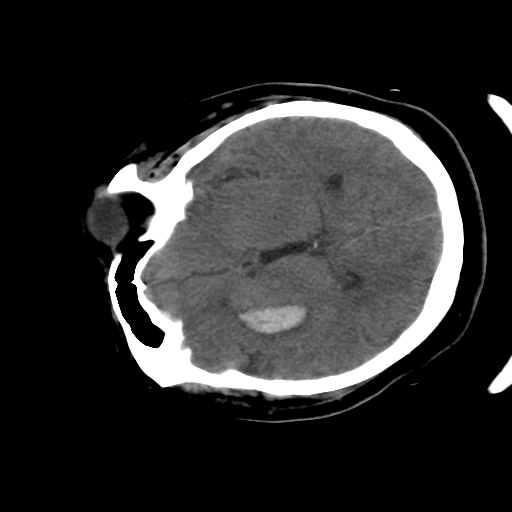a: (228, 292, 313, 342)
